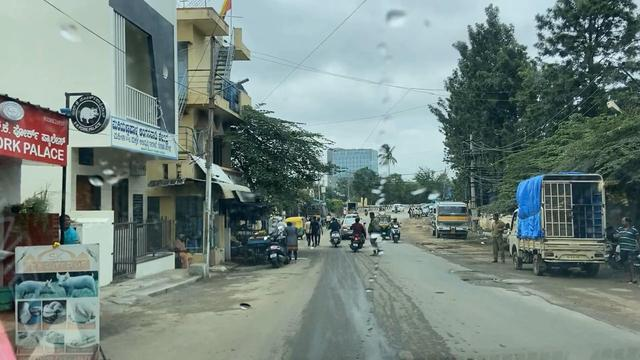RoadDamages: (453, 267, 537, 310), (178, 281, 256, 318)
